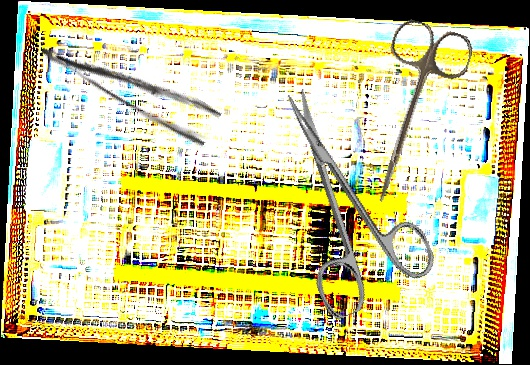Dressing Forceps: (38, 19, 223, 150)
Iris Scissors: (243, 67, 443, 323), (346, 15, 477, 215)
